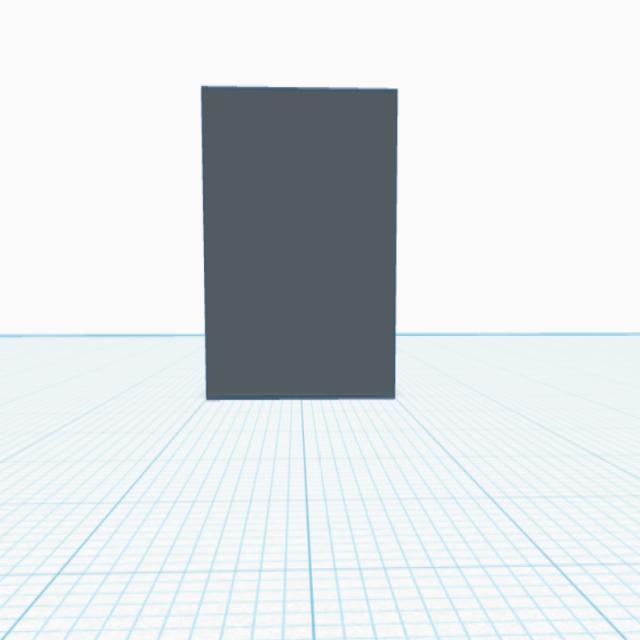cube: (197, 73, 402, 407)
